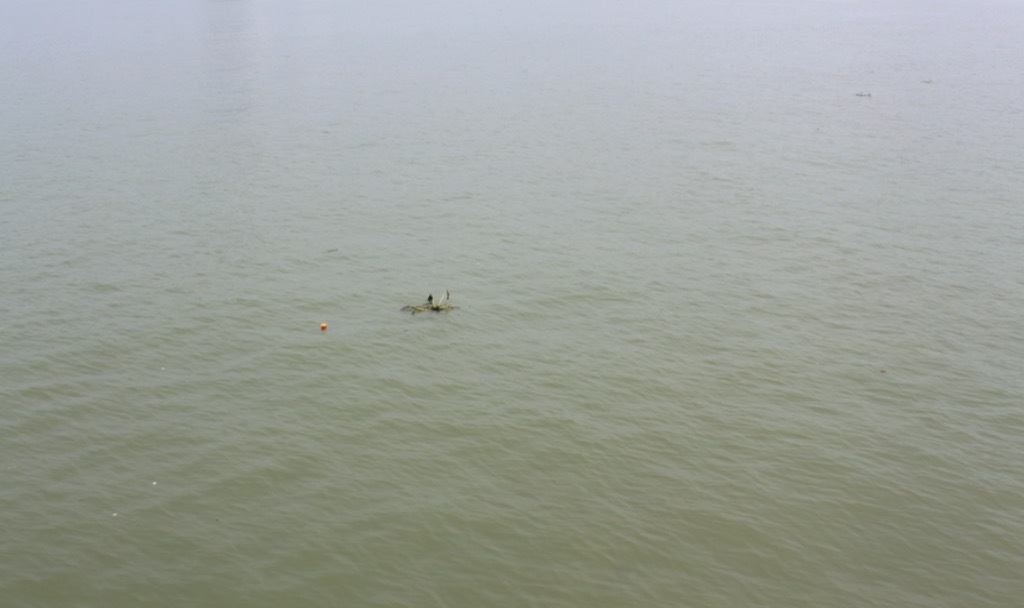organic: (391, 283, 467, 330), (849, 85, 879, 105), (874, 363, 892, 380)
plastic: (311, 318, 335, 341), (110, 509, 121, 522), (157, 362, 168, 375), (151, 478, 160, 488)
